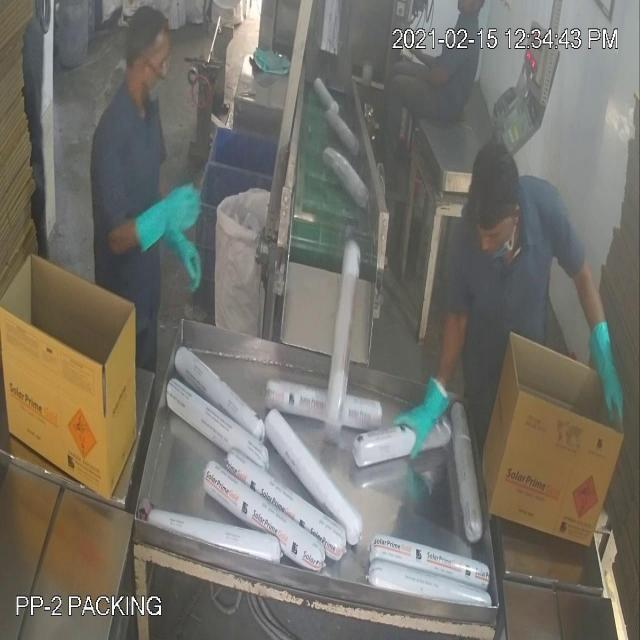Gloves: (53, 61, 605, 416)
